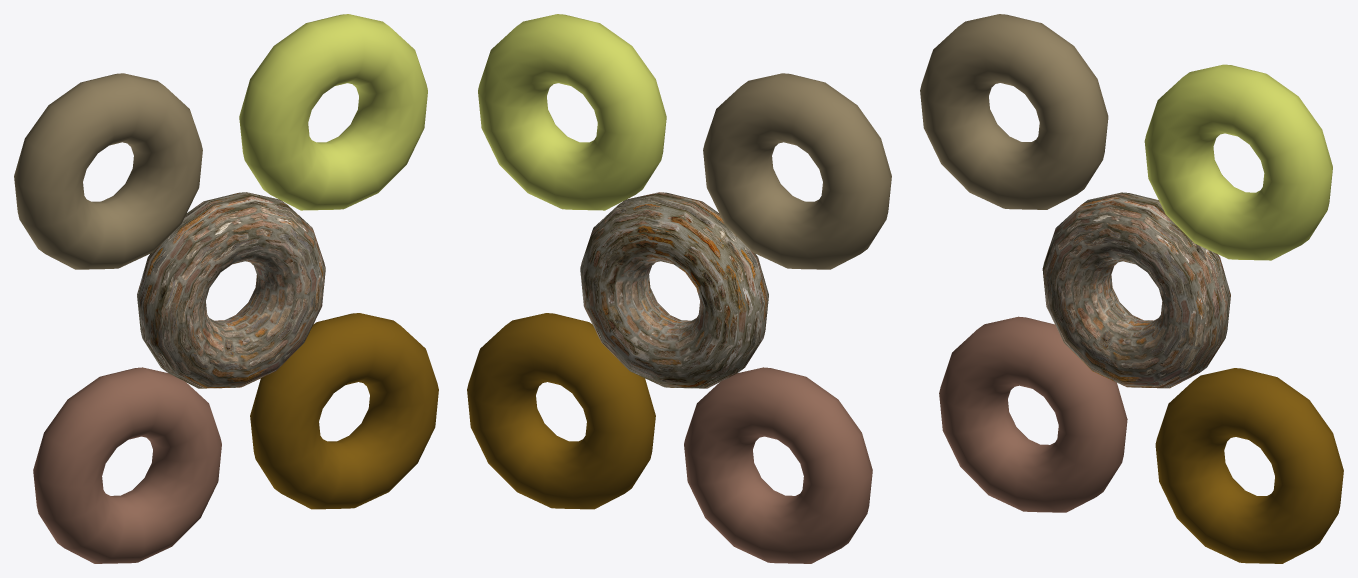
Rendered from donut.fbx.
3 renders of one model, left to right at view 1: azimuth 30°, elevation 25°; view 2: azimuth 150°, elevation 25°; view 3: azimuth 330°, elevation 25°, orthographic.
Parts seen in each view (by area): view 1: polySurface4; view 2: polySurface4; view 3: polySurface4.
Part boxes in pixels (x1,y1,x2,y2): polySurface4: (14, 14, 438, 563); polySurface4: (467, 14, 891, 563); polySurface4: (920, 14, 1343, 563).
Bounding box in the file's own units: 6.88 × 7.75 × 0.9945.
